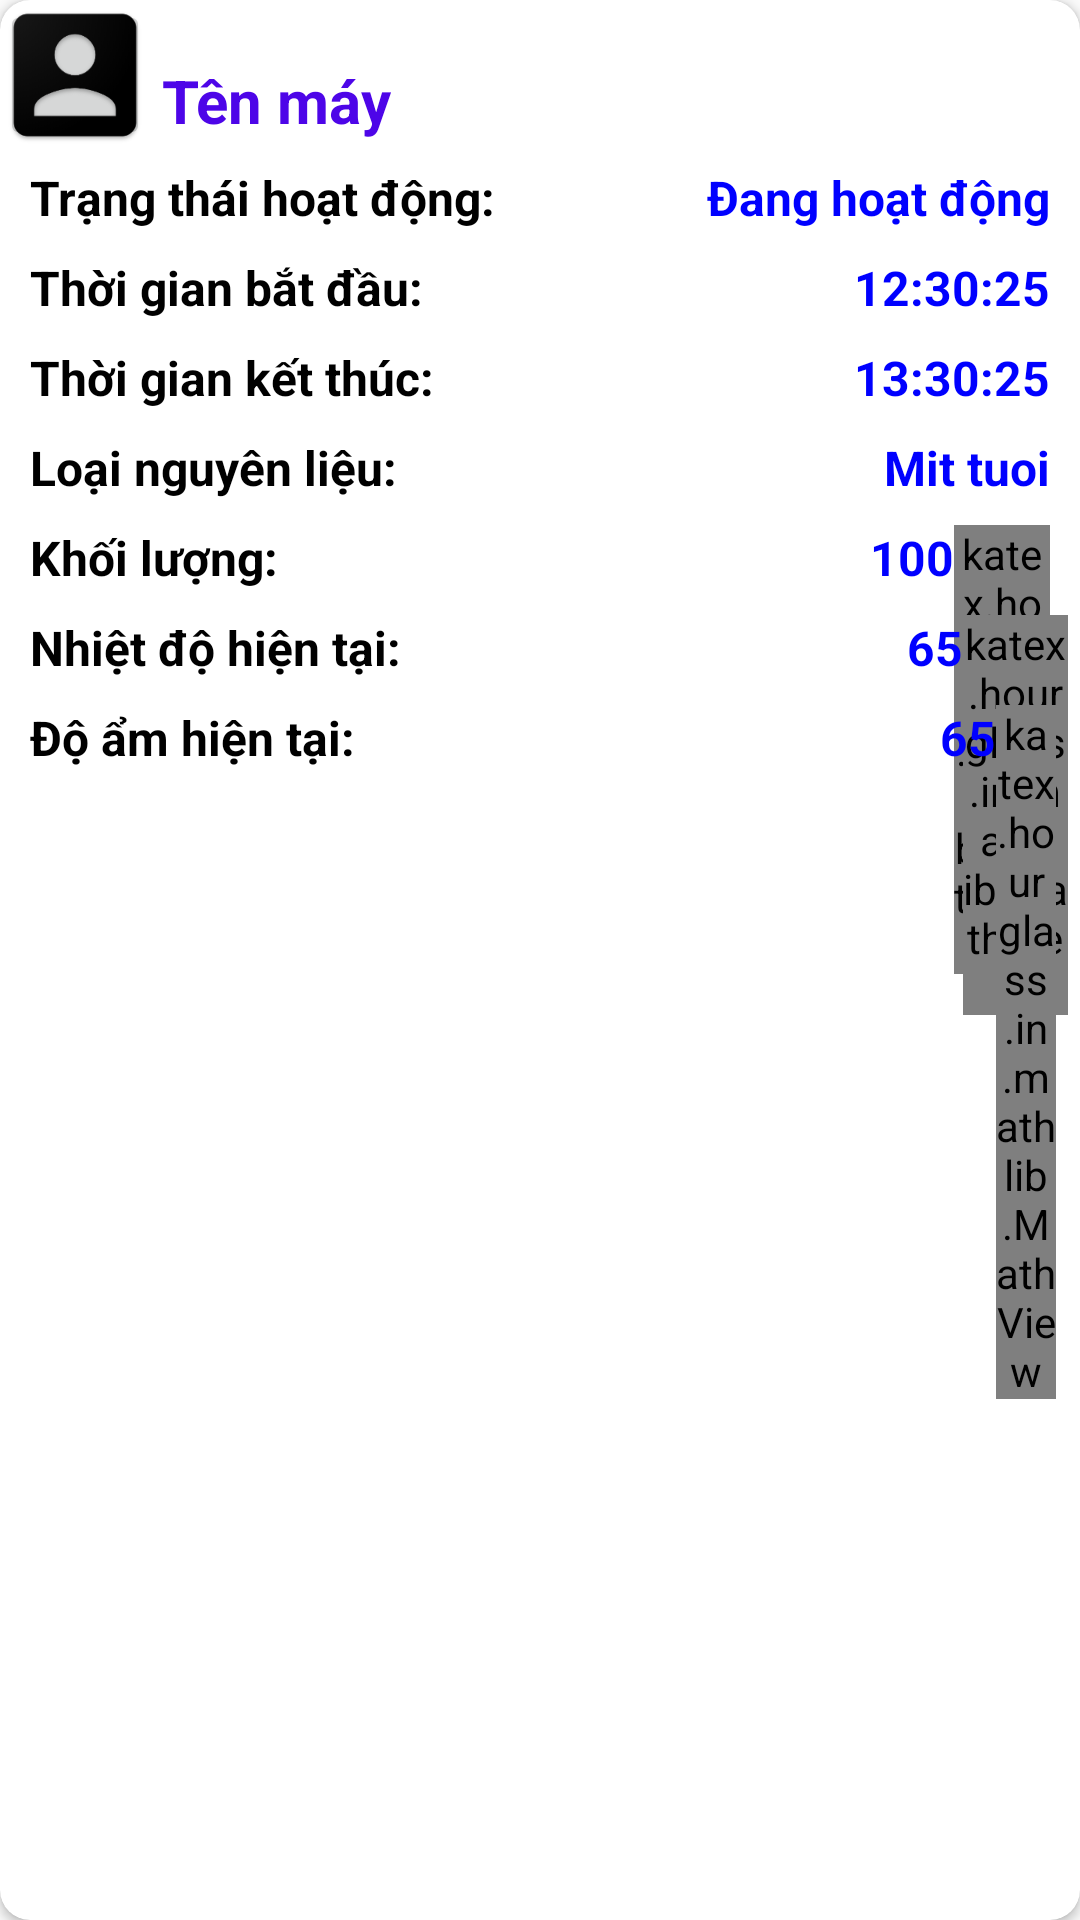

Locate icon controls on the screen. Image size 1080w x 1920h, boxes as bbox=[x1, y1, x2, y2].
account: bbox=[0, 0, 138, 139]
